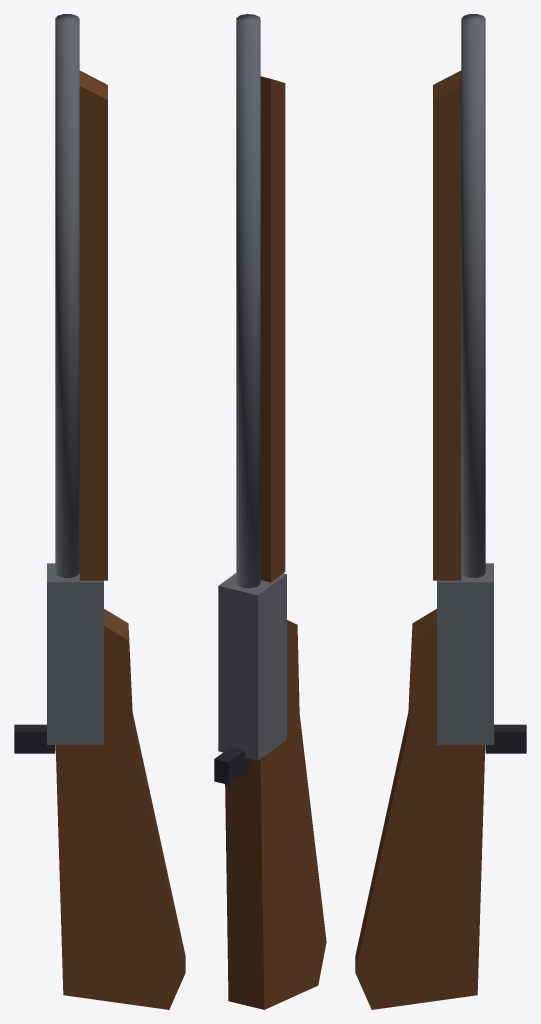
File: musket.glb
3 renders of one model, left to right at view 1: azimuth 90°, elevation 25°; view 2: azimuth 150°, elevation 25°; view 3: azimuth 270°, elevation 25°, orthographic.
Parts seen in each view (by area): view 1: musket_v0; view 2: musket_v0; view 3: musket_v0.
Boxes of the visible parts, x1,y1,x2,y2 form: musket_v0: (14, 14, 185, 1009); musket_v0: (214, 14, 326, 1009); musket_v0: (355, 14, 526, 1009).
Bounding box in the file's own units: 0.055 × 1.33 × 0.21.
